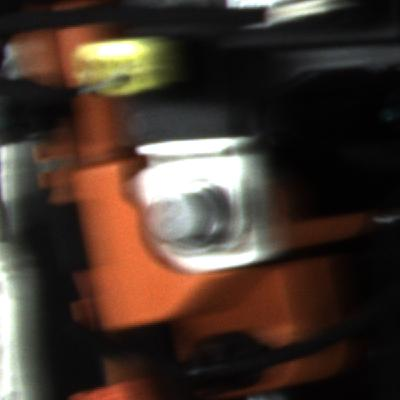nut_b: (148, 172, 237, 260)
